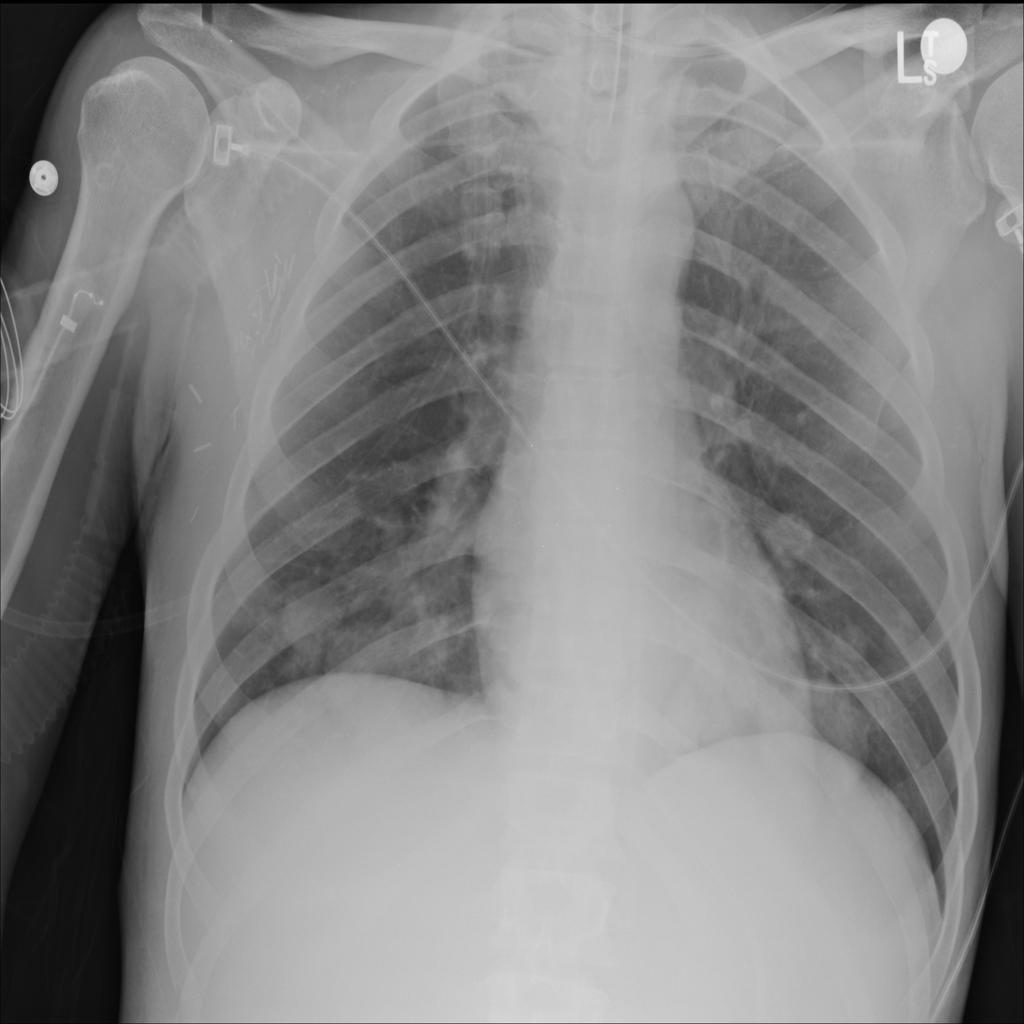nodule: (306, 603, 457, 730), (749, 657, 868, 785), (260, 569, 368, 682), (649, 675, 723, 757), (751, 499, 827, 575), (814, 607, 879, 677), (318, 418, 369, 466)
